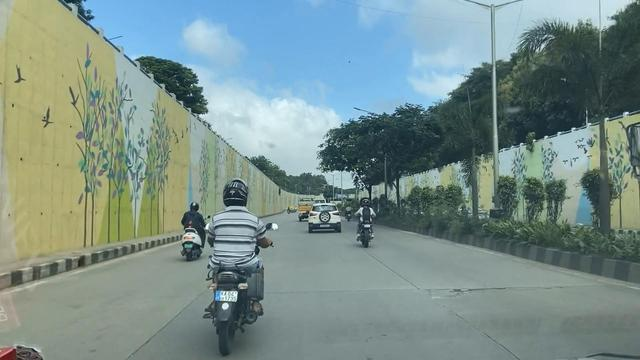LMV: (211, 179, 266, 330), (358, 197, 378, 247), (185, 200, 203, 255), (307, 204, 341, 232)
RoadDamages: (406, 273, 525, 305)
